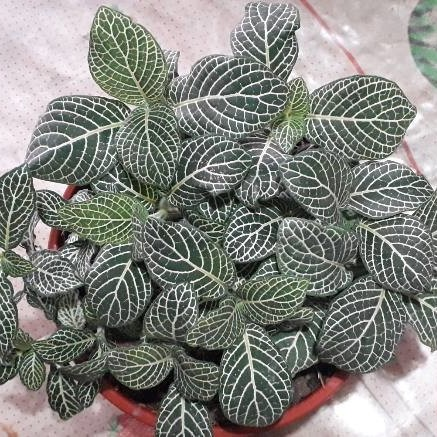obstacle: (25, 46, 406, 424)
